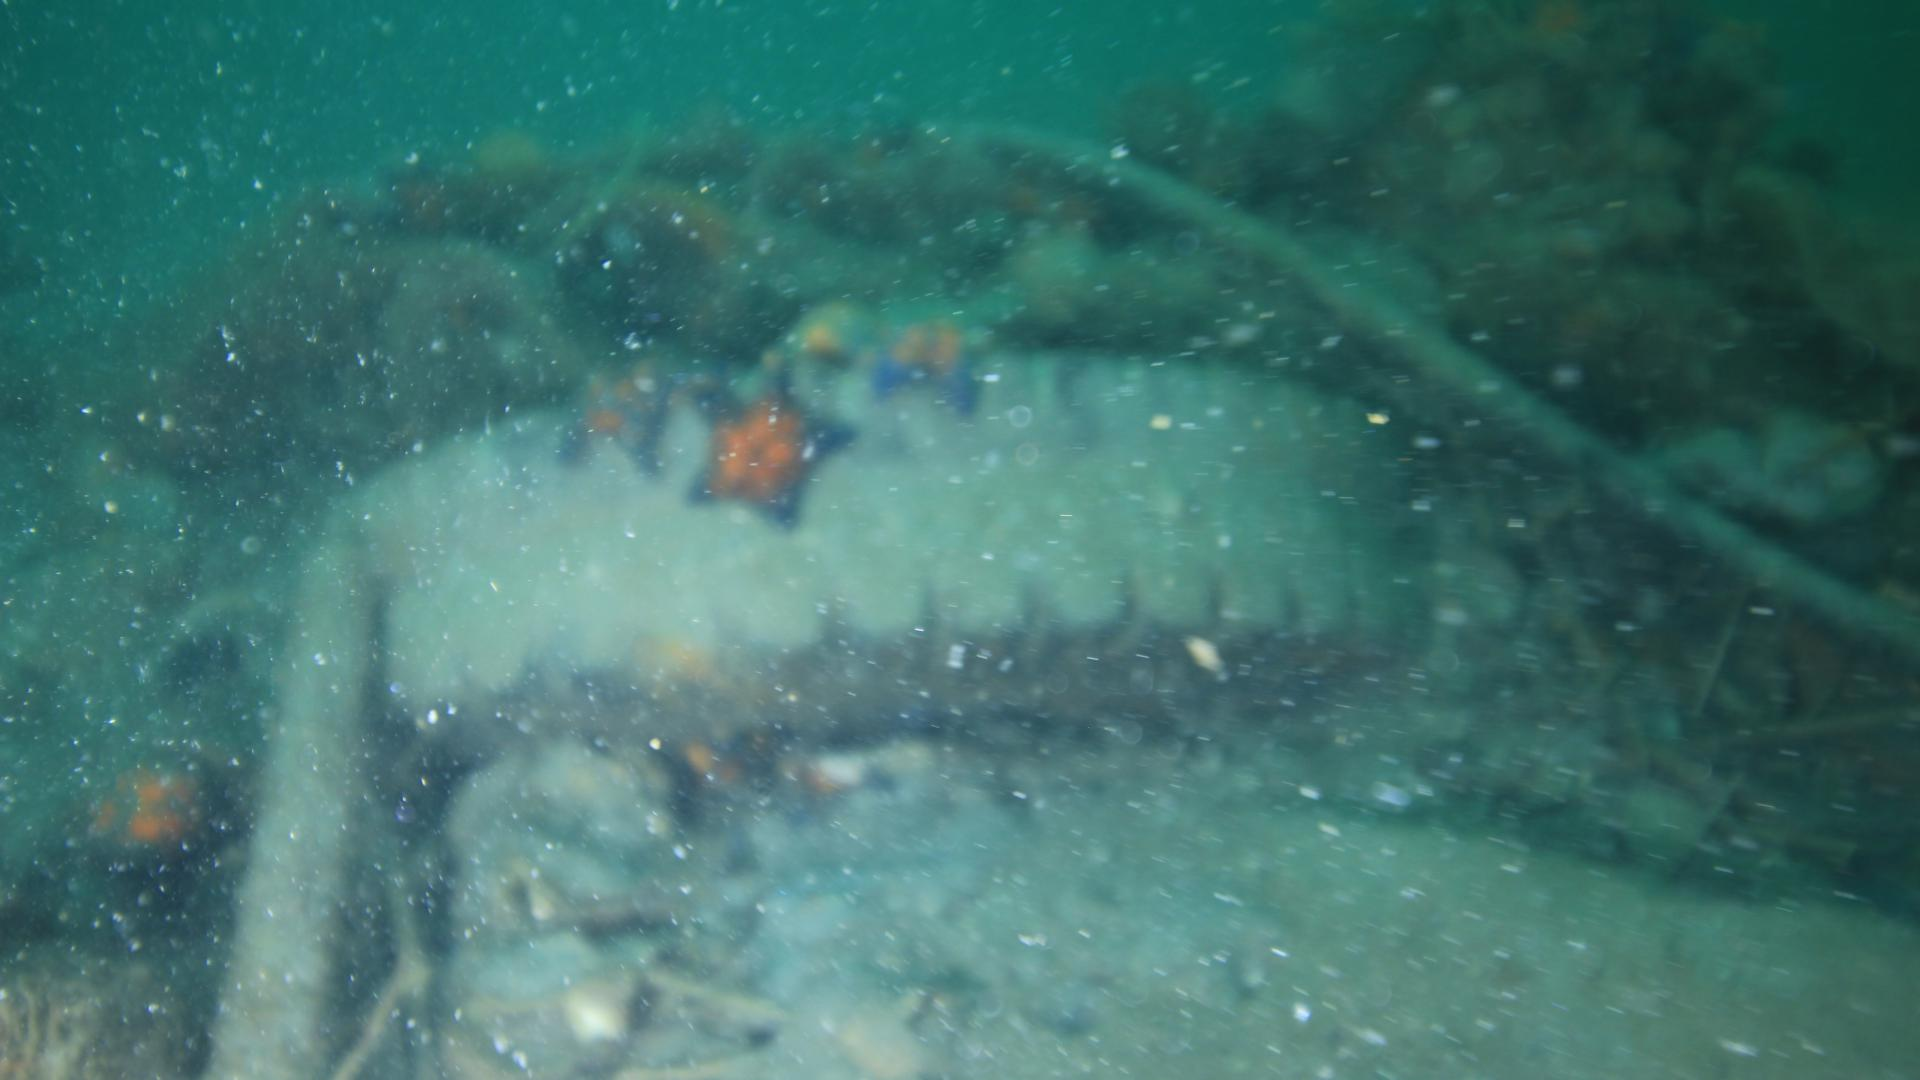tire: (361, 356, 1418, 742)
